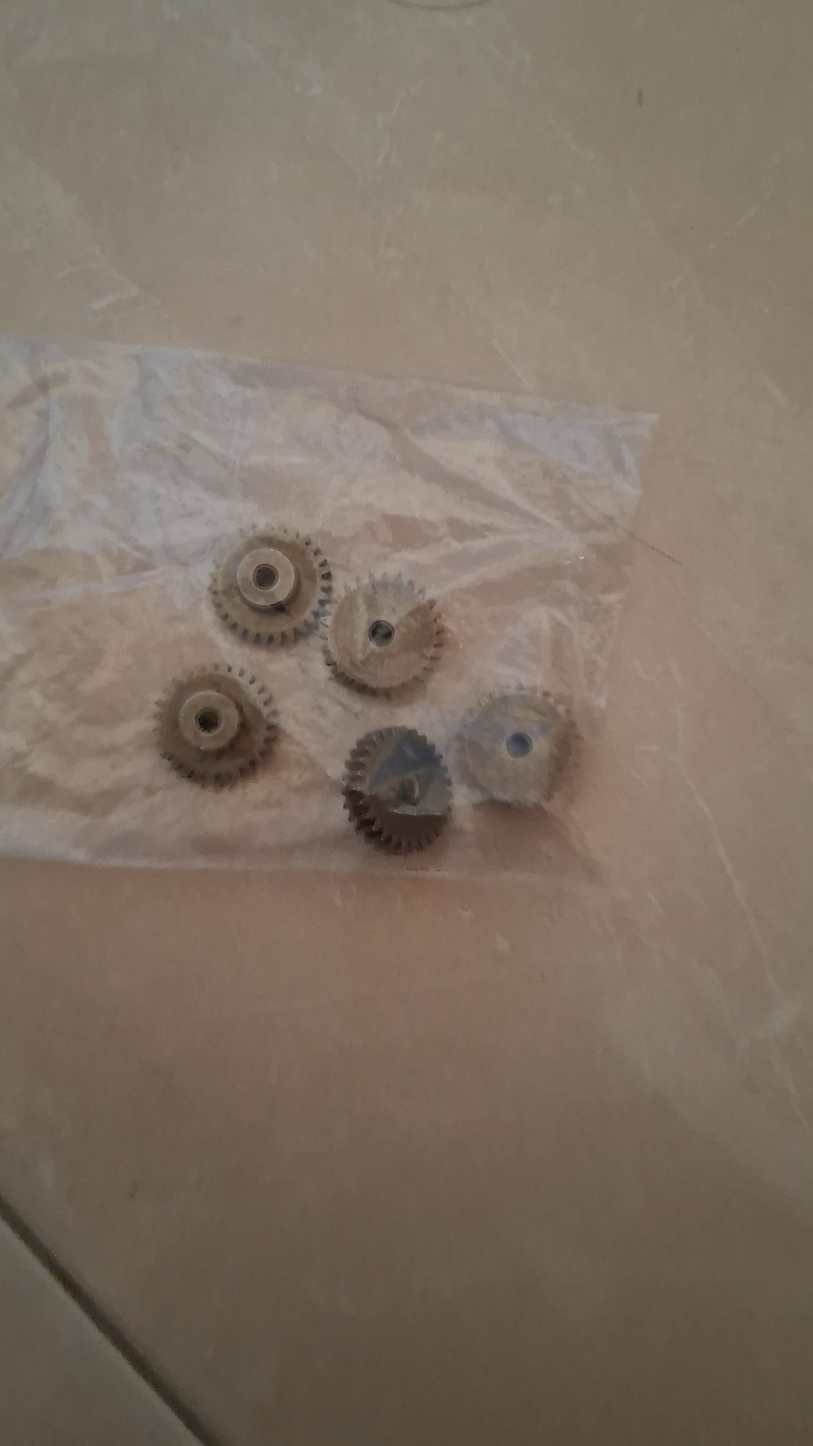spur gear: (157, 663, 276, 786), (210, 526, 332, 644), (323, 577, 443, 693), (343, 726, 451, 853), (459, 689, 576, 805)
